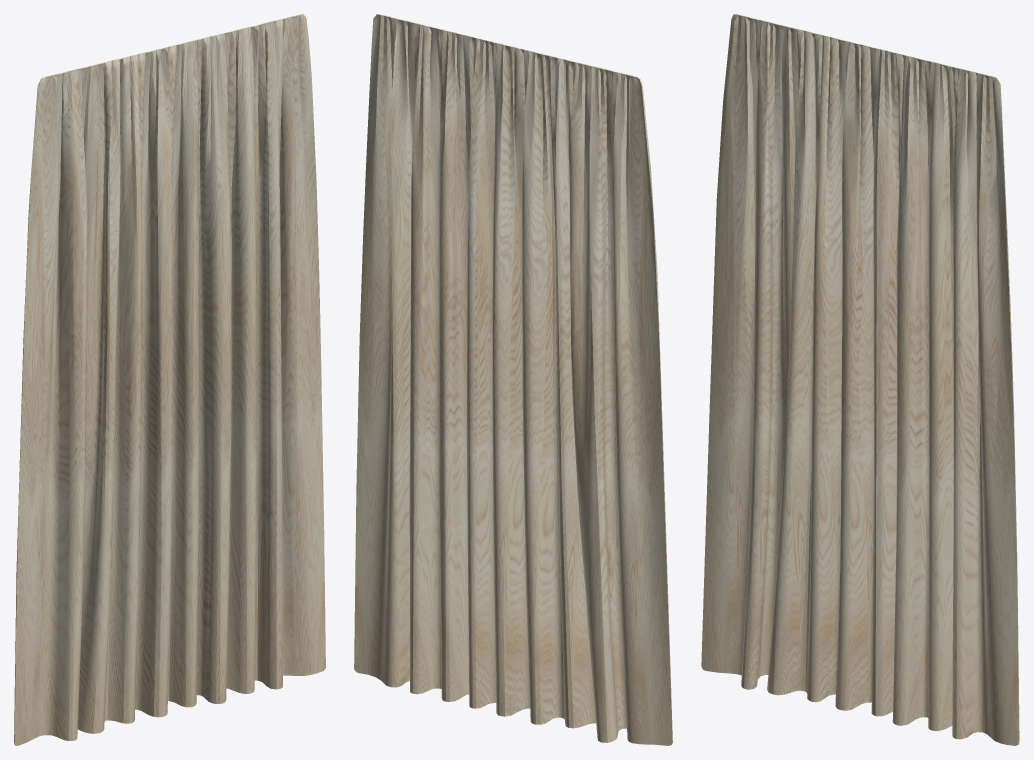
File: NFG-I0011.glb
The picture shows the model from 3 angles, left to right: view 1: azimuth 30°, elevation 25°; view 2: azimuth 150°, elevation 25°; view 3: azimuth 330°, elevation 25°; orthographic projection.
Visible parts, largest first — view 1: Curtain.001; view 2: Curtain.001; view 3: Curtain.001.
Part boxes in pixels (x1,y1,x2,y2): Curtain.001: (14,14,325,745); Curtain.001: (354,14,672,745); Curtain.001: (701,14,1019,745).
Bounding box in the file's own units: 0.9942 × 2 × 0.1161.
1 material, 1 textured.
